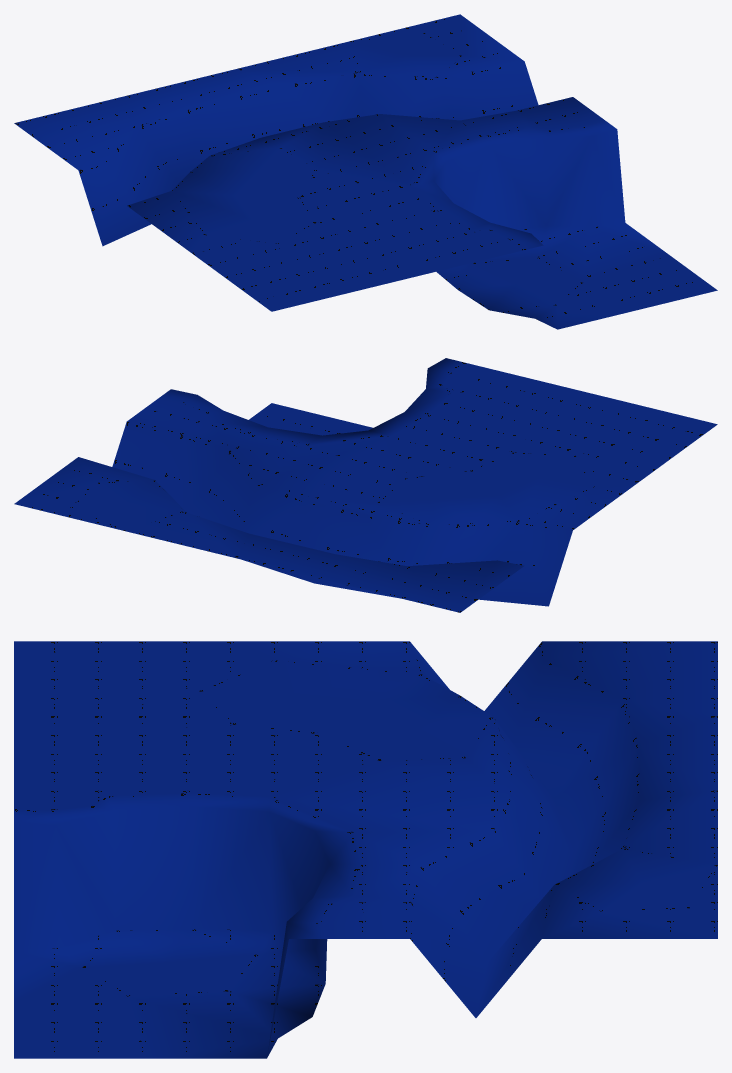
Rendered from GRD_S_C4_R3_2.fbx.
3 views of the same model, one above another, from view 1: azimuth 30°, elevation 25°; view 2: azimuth 150°, elevation 25°; view 3: azimuth 270°, elevation 25° (orthographic). The views are drawn at different scales.
Parts seen in each view (by area): view 1: material_00012000, material_C0042000, material_C0022000, material_00032000; view 2: material_00012000, material_C0042000, material_C0022000, material_00032000; view 3: material_00012000, material_00032000, material_C0042000, material_C0022000.
Boxes of the visible parts, box(x1,y1,x2,y2) form: material_00012000: box(14, 14, 717, 329); material_C0042000: box(78, 61, 538, 246); material_C0022000: box(172, 32, 583, 310); material_00032000: box(411, 120, 625, 250); material_00012000: box(14, 363, 717, 612); material_C0042000: box(112, 421, 572, 606); material_C0022000: box(70, 452, 594, 531); material_00032000: box(159, 358, 466, 445); material_00012000: box(14, 641, 717, 1058); material_00032000: box(14, 792, 360, 1055); material_C0042000: box(410, 642, 639, 1017); material_C0022000: box(82, 660, 717, 996).
Size of the model in its own units: 12800 by 2400 by 12800.
